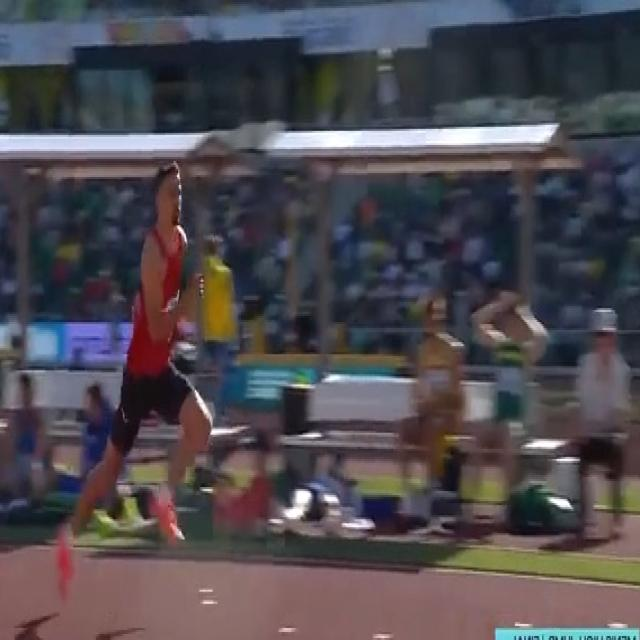run: (55, 159, 212, 601)
